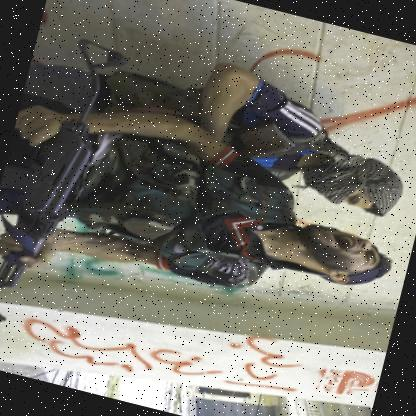rifle: (0, 24, 140, 341)
